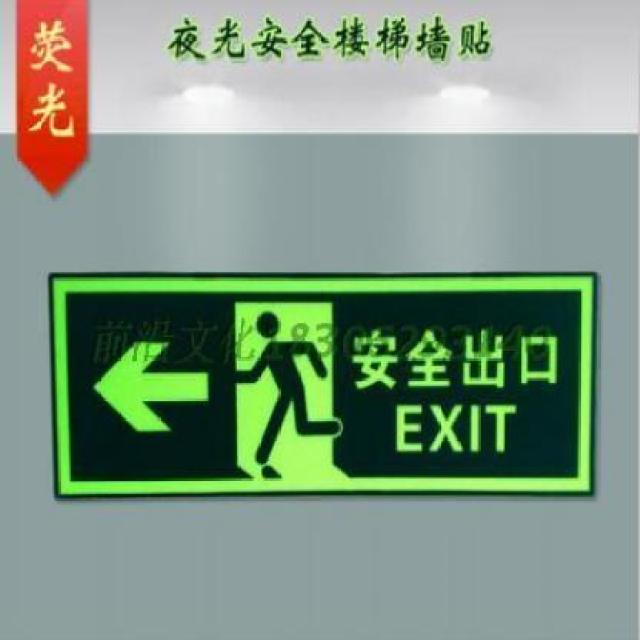exit_sign: (51, 271, 586, 491)
